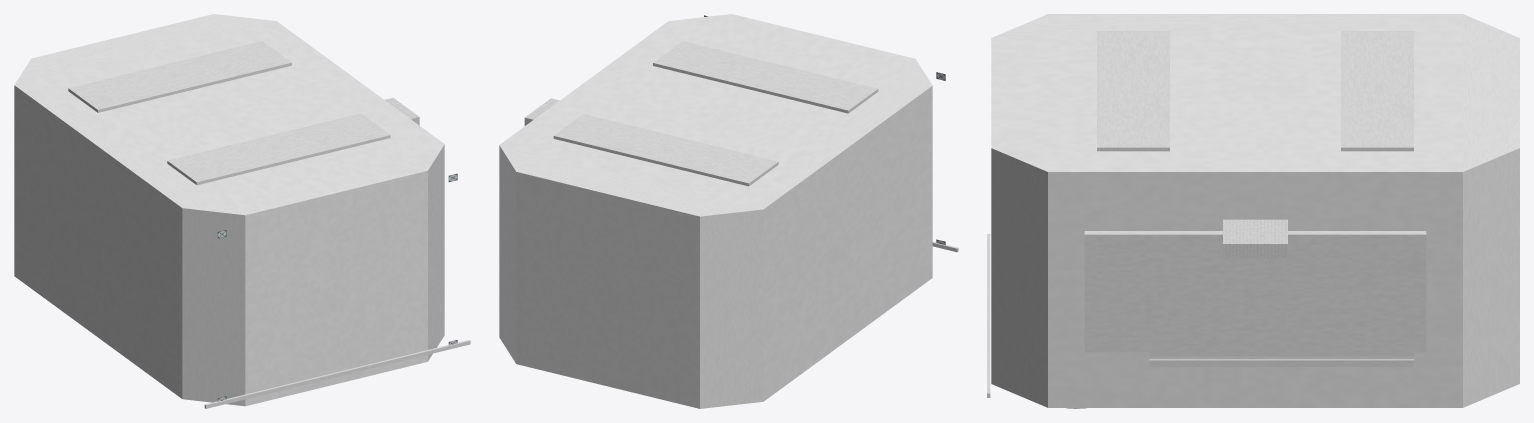
The model's file is kitchentoaster.obj.
The picture shows the model from 3 angles, left to right: view 1: azimuth 30°, elevation 25°; view 2: azimuth 150°, elevation 25°; view 3: azimuth 270°, elevation 25°; orthographic projection. The views are drawn at different scales.
Visible parts, largest first — view 1: Case, Black, Trim; view 2: Case, Black, Trim; view 3: Case, Black, Trim.
Part boxes in pixels (<box>): Case: <box>14,14,444,406</box>; Black: <box>68,41,390,185</box>; Trim: <box>204,97,470,408</box>; Case: <box>499,14,932,408</box>; Black: <box>553,41,878,186</box>; Trim: <box>524,15,958,252</box>; Case: <box>991,14,1519,407</box>; Black: <box>1084,31,1426,352</box>; Trim: <box>987,219,1413,408</box>.
Size of the model in its own units: 0.542 by 0.345 by 0.655.
